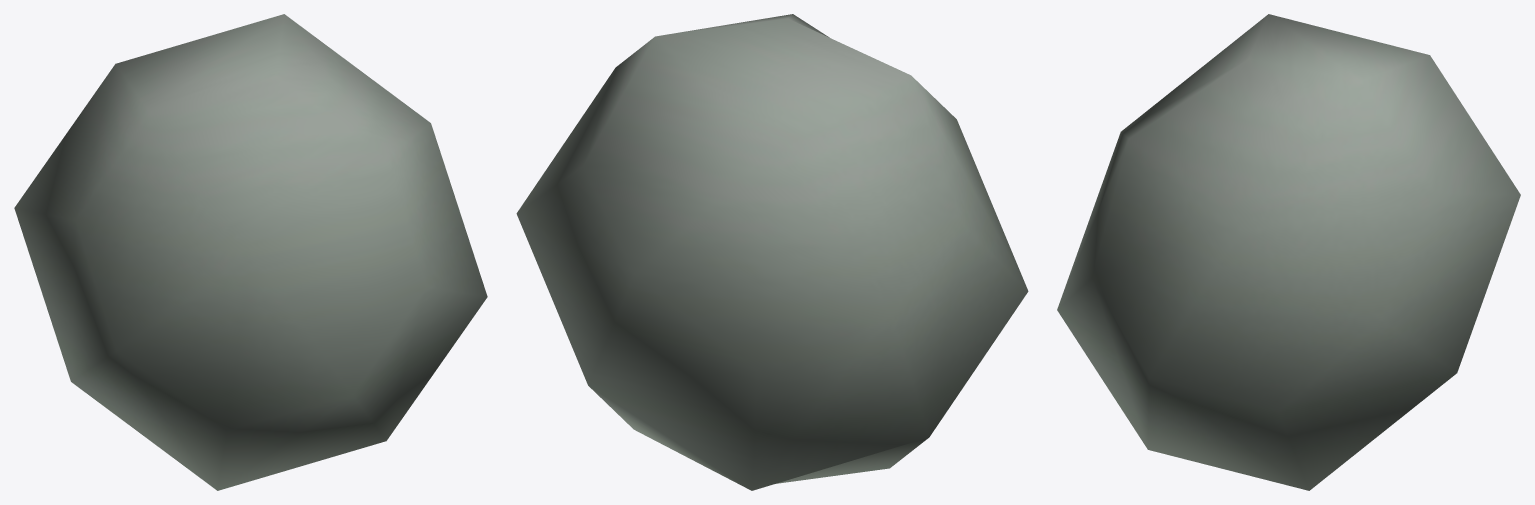
Rendered from Trees_Stone1.fbx.
3 views of the same model, side by side, from view 1: azimuth 30°, elevation 25°; view 2: azimuth 150°, elevation 25°; view 3: azimuth 270°, elevation 25° (orthographic). The views are drawn at different scales.
Visible parts, largest first — view 1: Stone1; view 2: Stone1; view 3: Stone1.
Part boxes in pixels (x1=…): Stone1: x1=14, y1=14, x2=487, y2=490; Stone1: x1=516, y1=14, x2=1028, y2=490; Stone1: x1=1057, y1=14, x2=1520, y2=490.
Size of the model in its own units: 32.33 by 33.99 by 34.78.
Materials: 1 (1 with a texture image).
